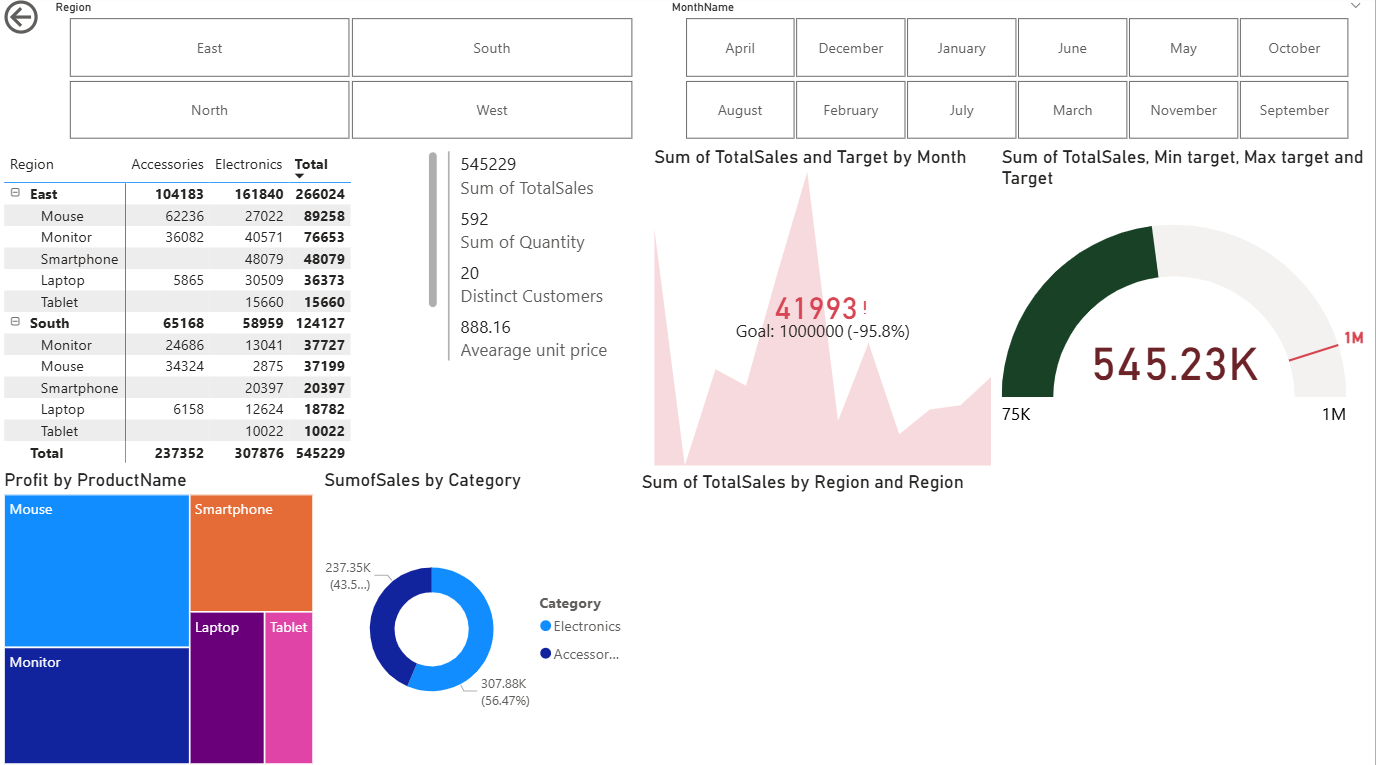

What the dashboard file says about the page in this screenshot:
{"tool":"powerbi","page":{"name":"Page 2","canvas":[1280,720],"ordinal":1},"visuals":[{"type":"donutChart","fields":{"Category":["Dim_Products.Category"],"Y":["Fact_Sales.SumofSales"]},"box":[297.3,440.4,296.1,279.9],"z":0},{"type":"treemap","fields":{"Values":["Fact_Sales.Profit"],"Group":["Dim_Products.ProductName"]},"box":[0,440.4,297.3,279.9],"z":1000},{"type":"map","fields":{"Category":["Dim_Customers.Region"],"Size":["Sum(Fact_Sales.TotalSales)"],"Series":["Dim_Customers.Region"]},"box":[593.4,442.8,686.7,277.4],"z":2000},{"type":"kpi","fields":{"Indicator":["Sum(Fact_Sales.TotalSales)"],"Goal":["Fact_Sales.Target"],"TrendLine":["Dim_Date.Month"]},"box":[604.6,140.6,323.4,302.3],"z":3000},{"type":"multiRowCard","fields":{"Values":["Sum(Fact_Sales.TotalSales)","Sum(Fact_Sales.Quantity)","Fact_Sales.Customers","Fact_Sales.Avearage unit price"]},"box":[413,140.6,191.6,299.8],"z":4000},{"type":"gauge","fields":{"Y":["Sum(Fact_Sales.TotalSales)"],"MinValue":["Fact_Sales.Min target"],"MaxValue":["Fact_Sales.Max target"],"TargetValue":["Fact_Sales.Target"]},"box":[928,140.6,352,299.8],"z":5000},{"type":"pivotTable","fields":{"Rows":["Dim_Customers.Region","Dim_Products.ProductName"],"Columns":["Dim_Products.Category"],"Values":["Sum(Fact_Sales.TotalSales)"]},"box":[0,140.6,413,299.8],"z":6000},{"type":"slicer","fields":{"Values":["Dim_Customers.Region"]},"box":[39.8,0,573.5,140.6],"z":7000},{"type":"slicer","fields":{"Values":["Dim_Date.MonthName"]},"box":[613.3,0,666.8,140.6],"z":8000},{"type":"actionButton","box":[0,0,48.5,41.1],"z":9000}]}

Visuals, with their boxes in screenshot pixels (x1, y1, x2, y2), scaled from the page's 1280x720 canvas onto the 1376x765 screenshot:
donutChart - Dim_Products.Category x Fact_Sales.SumofSales: <box>320,468,638,764</box>
treemap - Fact_Sales.Profit x Dim_Products.ProductName: <box>0,468,320,764</box>
map - Dim_Customers.Region x Sum(Fact_Sales.TotalSales): <box>638,470,1375,764</box>
kpi - Sum(Fact_Sales.TotalSales) x Fact_Sales.Target: <box>650,149,998,471</box>
multiRowCard - Sum(Fact_Sales.TotalSales) x Sum(Fact_Sales.Quantity): <box>444,149,650,468</box>
gauge - Sum(Fact_Sales.TotalSales) x Fact_Sales.Min target: <box>998,149,1375,468</box>
pivotTable - Dim_Customers.Region x Dim_Products.ProductName: <box>0,149,444,468</box>
slicer - Dim_Customers.Region: <box>43,0,659,149</box>
slicer - Dim_Date.MonthName: <box>659,0,1375,149</box>
actionButton: <box>0,0,52,44</box>
